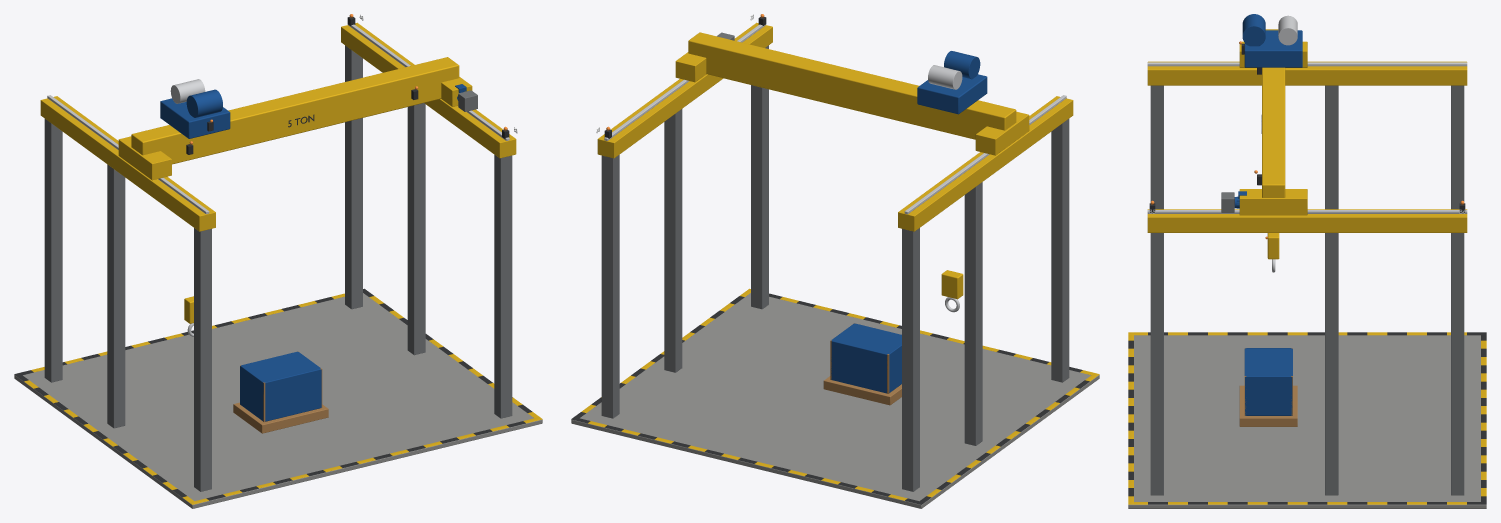
File: machine_crane.glb
The picture shows the model from 3 angles, left to right: view 1: azimuth 30°, elevation 25°; view 2: azimuth 150°, elevation 25°; view 3: azimuth 270°, elevation 25°; orthographic projection.
Visible parts, largest first — view 1: frame, bridge_mesh, trolley_mesh; view 2: frame, bridge_mesh, trolley_mesh, hook_mesh; view 3: frame, bridge_mesh, trolley_mesh.
Boxes of the visible parts, x1=… form: frame: x1=14, y1=14, x2=542, y2=508; bridge_mesh: x1=118, y1=57, x2=477, y2=180; trolley_mesh: x1=160, y1=79, x2=230, y2=138; frame: x1=571, y1=14, x2=1099, y2=508; bridge_mesh: x1=675, y1=32, x2=1029, y2=155; trolley_mesh: x1=917, y1=51, x2=987, y2=114; hook_mesh: x1=941, y1=270, x2=963, y2=312; frame: x1=1128, y1=61, x2=1486, y2=508; bridge_mesh: x1=1221, y1=29, x2=1307, y2=215; trolley_mesh: x1=1241, y1=14, x2=1302, y2=67.
Size of the model in its own units: 4.2 by 4.03 by 3.7.
